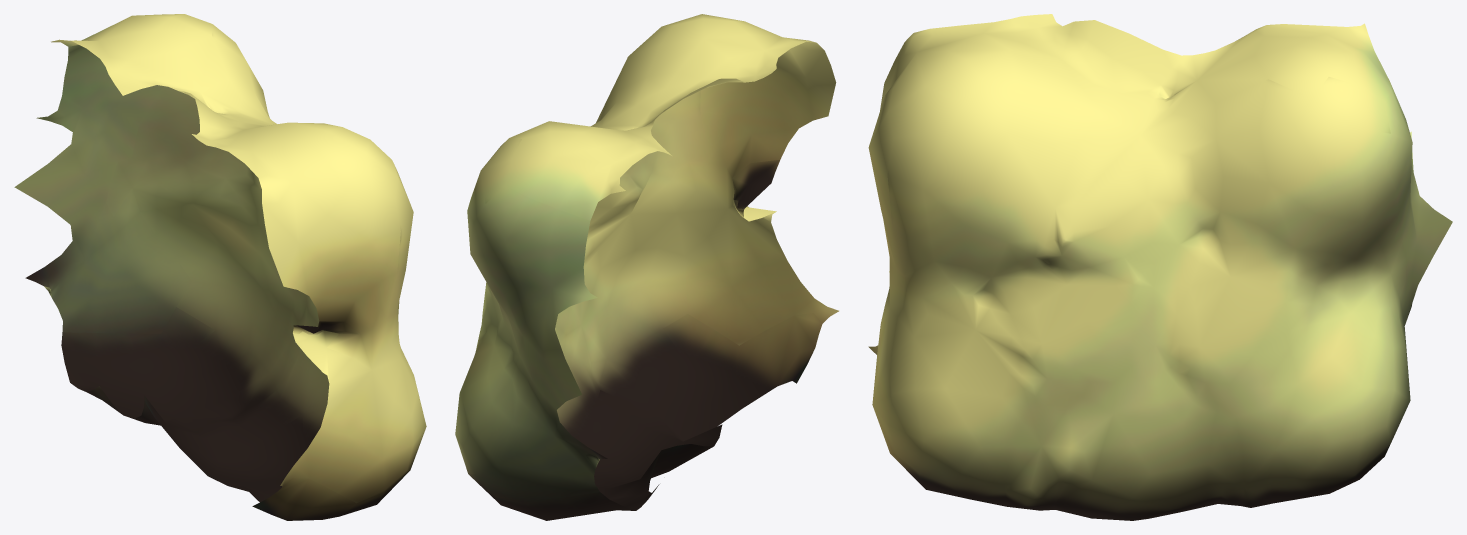
Rendered from blocks_gasss.fbx.
3 renders of one model, left to right at view 1: azimuth 30°, elevation 25°; view 2: azimuth 150°, elevation 25°; view 3: azimuth 270°, elevation 25°, orthographic. The views are drawn at different scales.
Parts seen in each view (by area): view 1: gasss; view 2: gasss; view 3: gasss.
Part boxes in pixels (bbox=[...]): gasss: bbox=[14, 14, 426, 520]; gasss: bbox=[455, 14, 838, 520]; gasss: bbox=[868, 14, 1452, 520].
Size of the model in its own units: 34.39 by 67.26 by 79.04.
